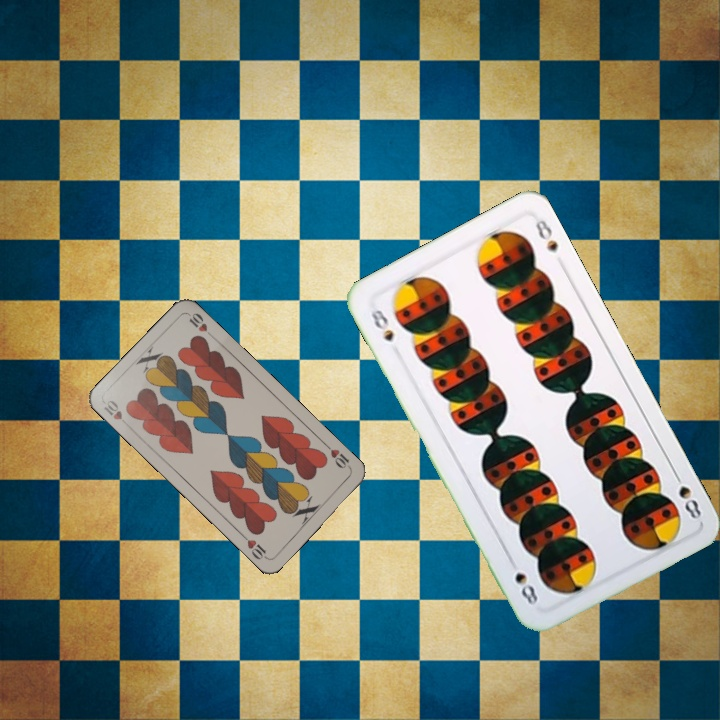H10: (100, 396, 132, 430), (321, 440, 354, 472)
S8: (669, 467, 704, 522), (367, 305, 397, 345)
